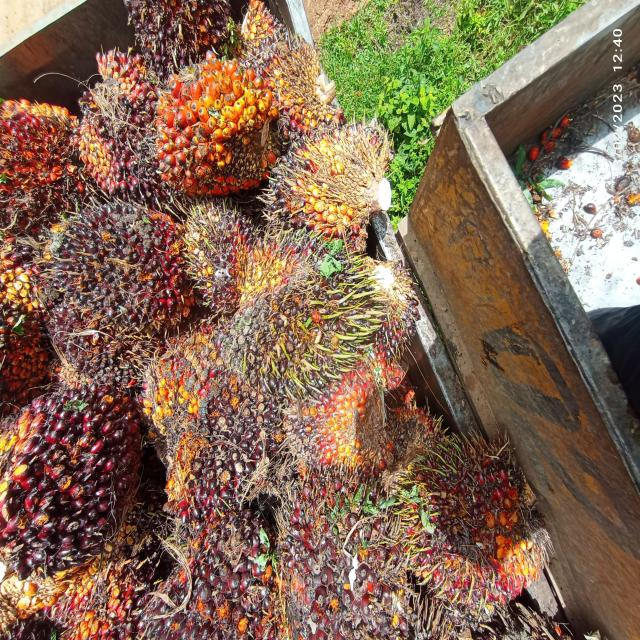fraksi 00: (219, 226, 379, 404), (268, 115, 410, 262), (245, 20, 350, 164), (356, 242, 432, 375)
fraksi 1: (0, 372, 147, 620), (128, 312, 276, 520), (45, 193, 194, 393), (275, 479, 407, 636), (61, 42, 188, 205), (144, 510, 274, 640), (181, 190, 263, 313)
fraksi 3: (399, 421, 551, 626), (275, 348, 391, 482)
fraksi 4: (142, 54, 282, 208), (0, 96, 91, 242)
